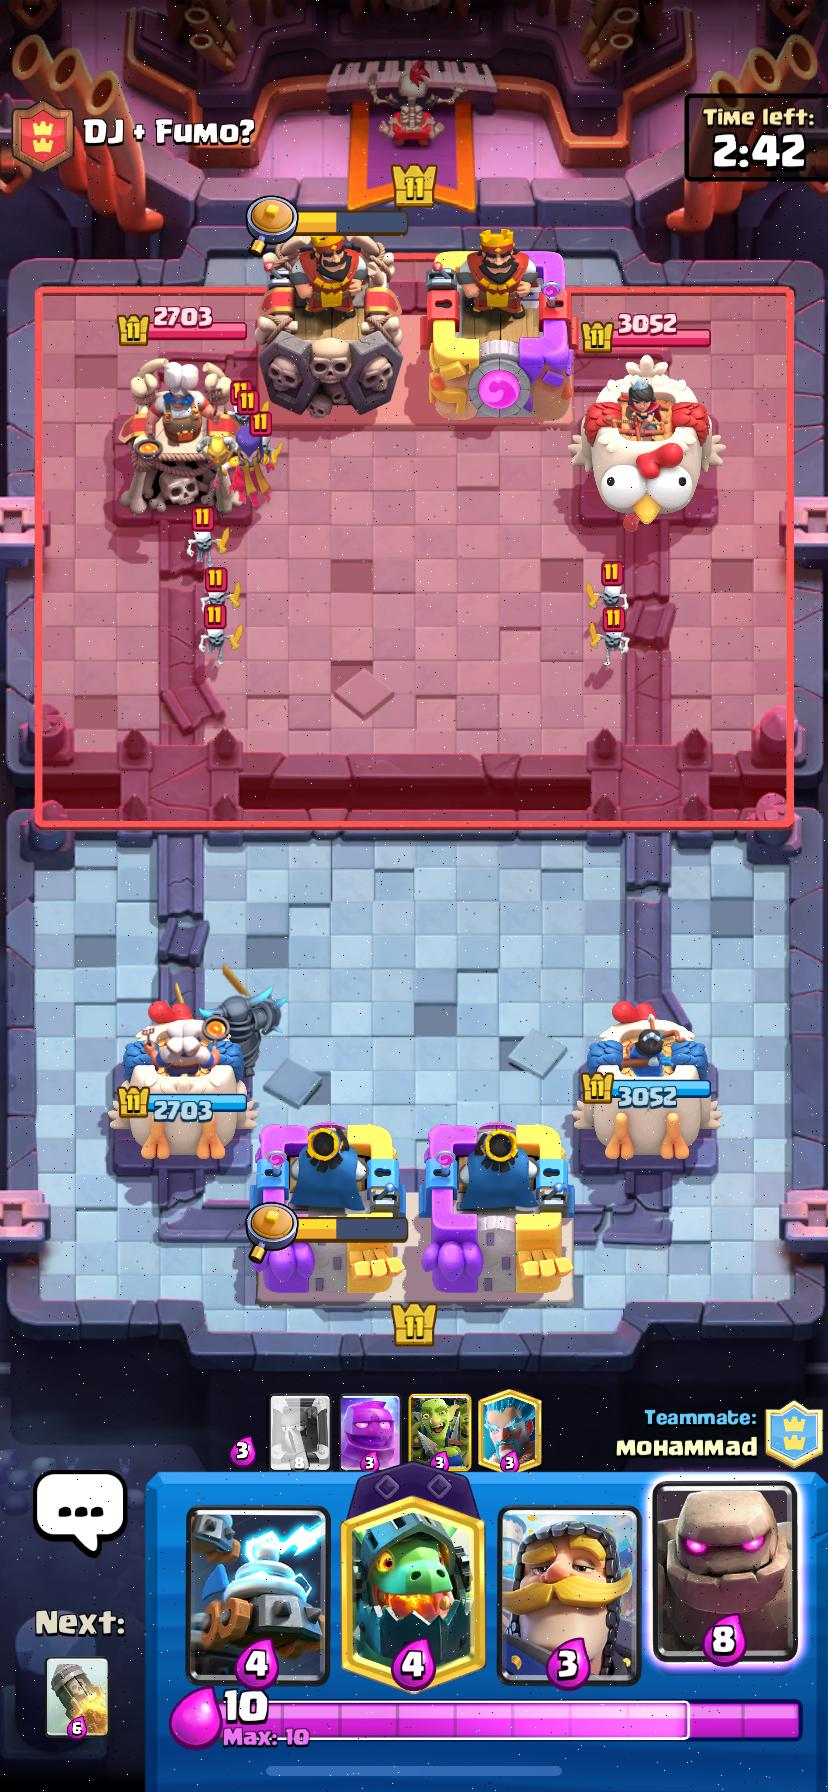EKingTower: (428, 229, 572, 418), (255, 234, 401, 417)
ELarry: (198, 598, 242, 665), (590, 598, 629, 667), (586, 561, 629, 615), (188, 506, 228, 565), (202, 567, 240, 608)
EWitch: (238, 424, 269, 504)
EnemyPanTower: (118, 359, 238, 514)
EnemyPrincessTower: (581, 357, 710, 528)
OBigPekka: (198, 985, 287, 1077)
OwnKingTower: (247, 1122, 407, 1299), (422, 1123, 573, 1298)
OwnPrincessTower: (109, 1003, 254, 1159), (578, 1003, 711, 1159)
